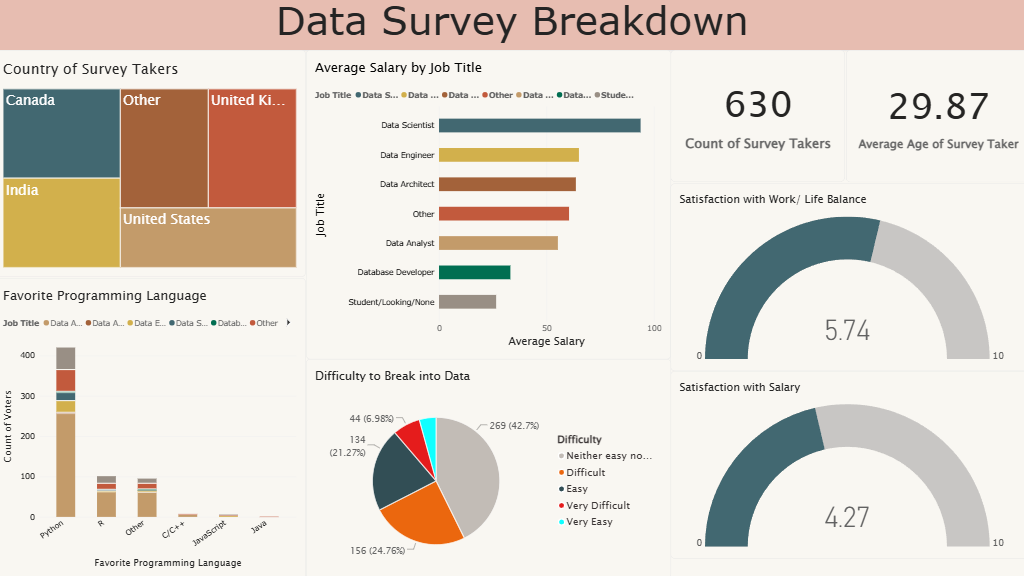

The page's visual inventory and layout, read from the dashboard file:
{"tool":"powerbi","page":{"name":"Page 1","canvas":[1920,1080],"ordinal":0},"visuals":[{"type":"textbox","box":[0,0,1919.1,102],"z":0},{"type":"cardVisual","fields":{"Data":["Count(Data Professional Survey.Unique ID)"]},"box":[1252.9,100.9,323.8,244],"z":1000},{"type":"cardVisual","fields":{"Data":["Avg(Data Professional Survey.Q10 - Current Age)"]},"box":[1576.7,100.9,341.2,245.7],"z":2000},{"type":"barChart","title":"Average Salary by Job Title","fields":{"Category":["Data Professional Survey.Q1 - Which Title Best Fits your Current Role?.1"],"Series":["Data Professional Survey.Q1 - Which Title Best Fits your Current Role?.1"],"Y":["Avg(Data Professional Survey.Average Salary)"]},"box":[577.2,100.9,675.7,572.5],"z":3000},{"type":"columnChart","title":"Favorite Programming Language","fields":{"Category":["Data Professional Survey.Q5 - Favorite Programming Language.1"],"Series":["Data Professional Survey.Q1 - Which Title Best Fits your Current Role?.1"],"Y":["CountNonNull(Data Professional Survey.Unique ID)"]},"box":[0,520.9,577.2,558.4],"z":4000},{"type":"treemap","title":"Country of Survey Takers","fields":{"Group":["Data Professional Survey.Q11 - Which Country do you live in?.1"],"Values":["Count(Data Professional Survey.Q11 - Which Country do you live in?.1)"]},"box":[0,100.9,577.2,420],"z":5000},{"type":"gauge","title":"Satisfaction with Work/ Life Balance","fields":{"MaxValue":["Max(Data Professional Survey.Q6 - How Happy are you in your Current Position with the following? (Work/Life Balance))1"],"MinValue":["Min(Data Professional Survey.Q6 - How Happy are you in your Current Position with the following? (Work/Life Balance))"],"Y":["Avg(Data Professional Survey.Q6 - How Happy are you in your Current Position with the following? (Work/Life Balance))"]},"box":[1252.9,347.2,666.3,347.2],"z":6000},{"type":"gauge","title":"Satisfaction with Salary","fields":{"MaxValue":["Max(Data Professional Survey.Q6 - How Happy are you in your Current Position with the following? (Salary))"],"MinValue":["Min(Data Professional Survey.Q6 - How Happy are you in your Current Position with the following? (Salary))"],"Y":["Avg(Data Professional Survey.Q6 - How Happy are you in your Current Position with the following? (Salary))"]},"box":[1252.9,694.5,666.3,347.2],"z":7000},{"type":"pieChart","title":"Difficulty to Break into Data","fields":{"Category":["Data Professional Survey.Q7 - How difficult was it for you to break into Data?"],"Y":["CountNonNull(Data Professional Survey.Q7 - How difficult was it for you to break into Data?)"]},"box":[577.2,673.4,675.7,405.9],"z":7001}]}

Visuals, with their boxes in screenshot pixels (x1, y1, x2, y2), scaled from the page's 1920x1080 canvas onto the 1024x576 screenshot:
textbox: crop(0, 0, 1023, 54)
cardVisual - Count(Data Professional Survey.Unique ID): crop(668, 54, 841, 184)
cardVisual - Avg(Data Professional Survey.Q10 - Current Age): crop(841, 54, 1023, 185)
"Average Salary by Job Title" barChart: crop(308, 54, 668, 359)
"Favorite Programming Language" columnChart: crop(0, 278, 308, 575)
"Country of Survey Takers" treemap: crop(0, 54, 308, 278)
"Satisfaction with Work/ Life Balance" gauge: crop(668, 185, 1023, 370)
"Satisfaction with Salary" gauge: crop(668, 370, 1023, 556)
"Difficulty to Break into Data" pieChart: crop(308, 359, 668, 575)
